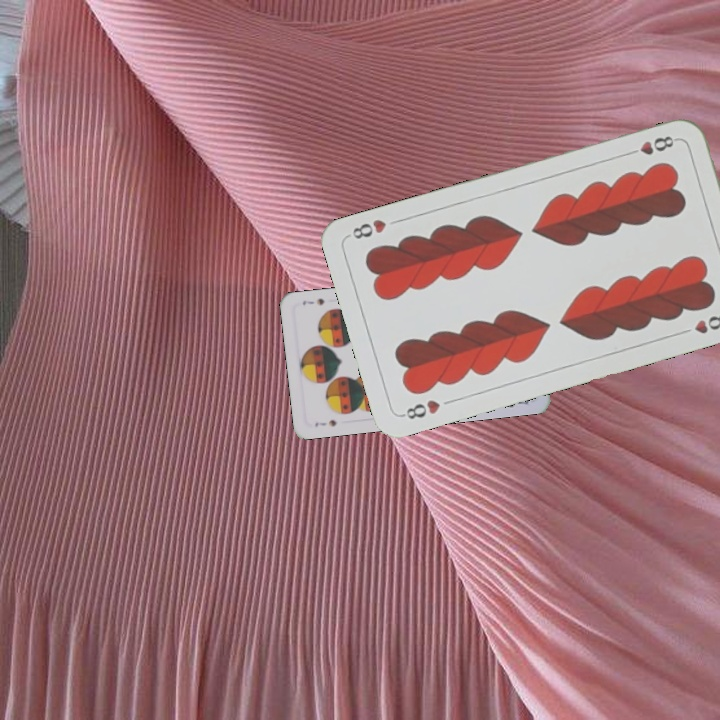H8: (622, 132, 680, 159), (397, 395, 443, 422)
S7: (311, 415, 339, 429)
